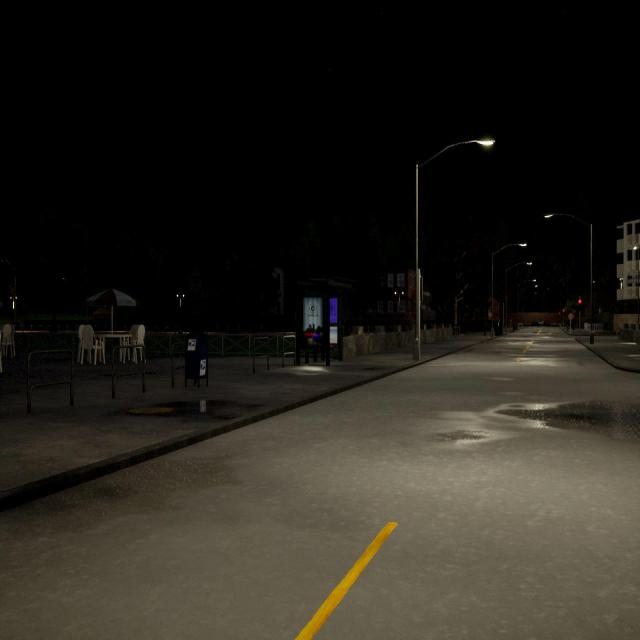Pedestrian: (483, 319, 487, 336)
Traffic_Signs: (568, 313, 574, 320)
Vehicle: (532, 320, 539, 327), (539, 320, 544, 326)
traffic_light: (420, 277, 423, 301), (578, 299, 582, 310), (562, 309, 565, 315), (558, 312, 560, 316)
